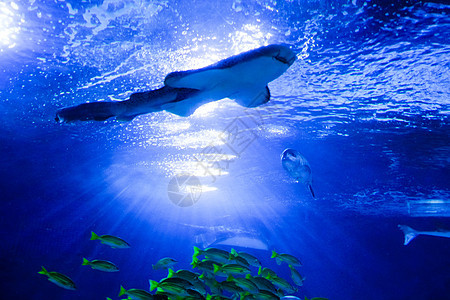shark: (54, 39, 307, 139)
